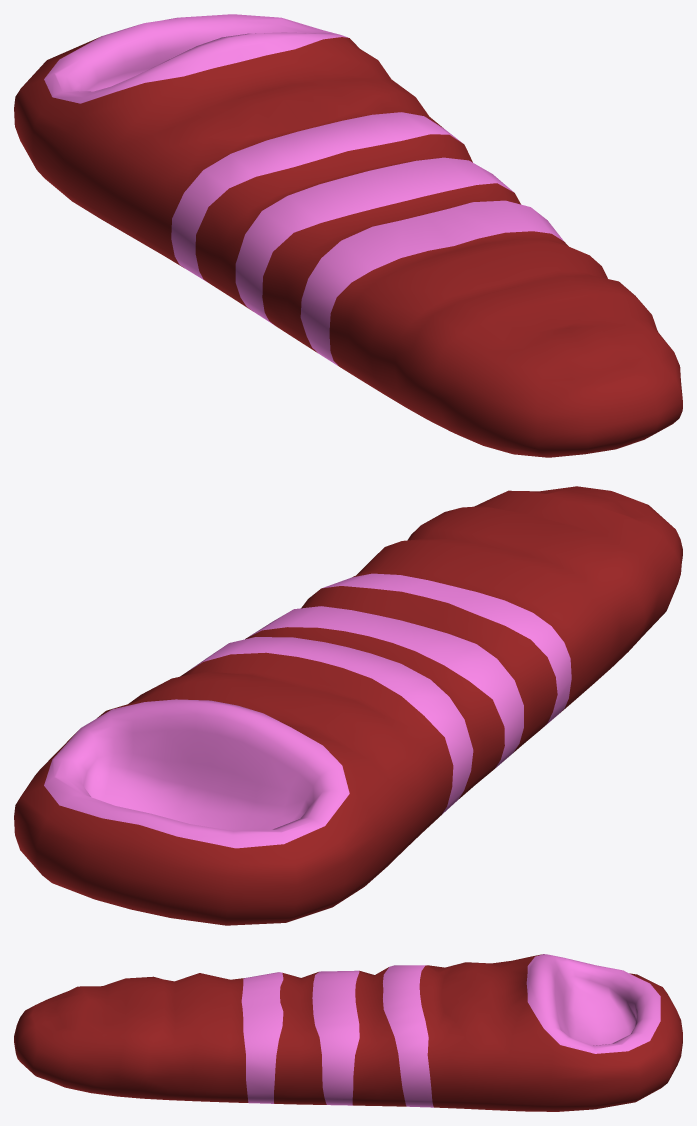
Rendered from SleepBag_01.fbx.
3 renders of one model, top to bottom at view 1: azimuth 30°, elevation 25°; view 2: azimuth 150°, elevation 25°; view 3: azimuth 270°, elevation 25°, orthographic. The views are drawn at different scales.
Visible parts, largest first — view 1: Group13677; view 2: Group13677; view 3: Group13677.
Boxes of the visible parts, x1,y1,x2,y2 form: Group13677: [14, 14, 682, 457]; Group13677: [14, 486, 682, 925]; Group13677: [14, 954, 682, 1111].
Size of the model in its own units: 95.82 by 46.03 by 266.
